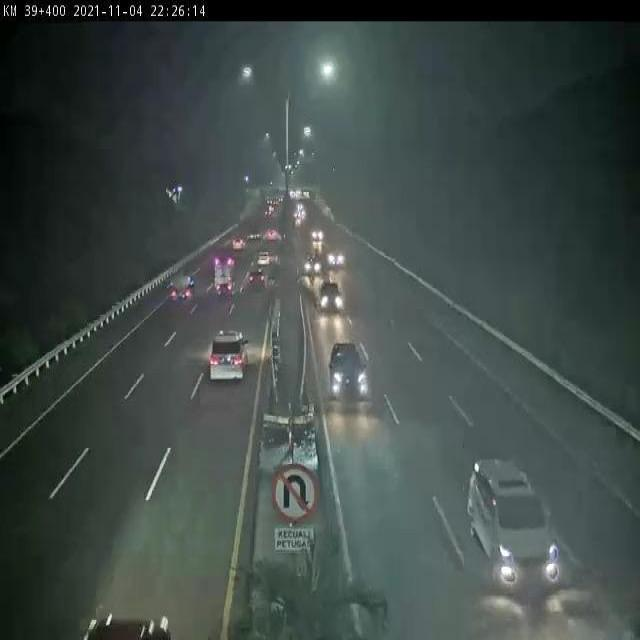car: (488, 469, 574, 603), (213, 303, 259, 401), (325, 334, 376, 418), (322, 282, 342, 314), (303, 258, 321, 278), (250, 264, 263, 289), (329, 252, 345, 269)
truck: (214, 259, 229, 297), (174, 276, 192, 303)
